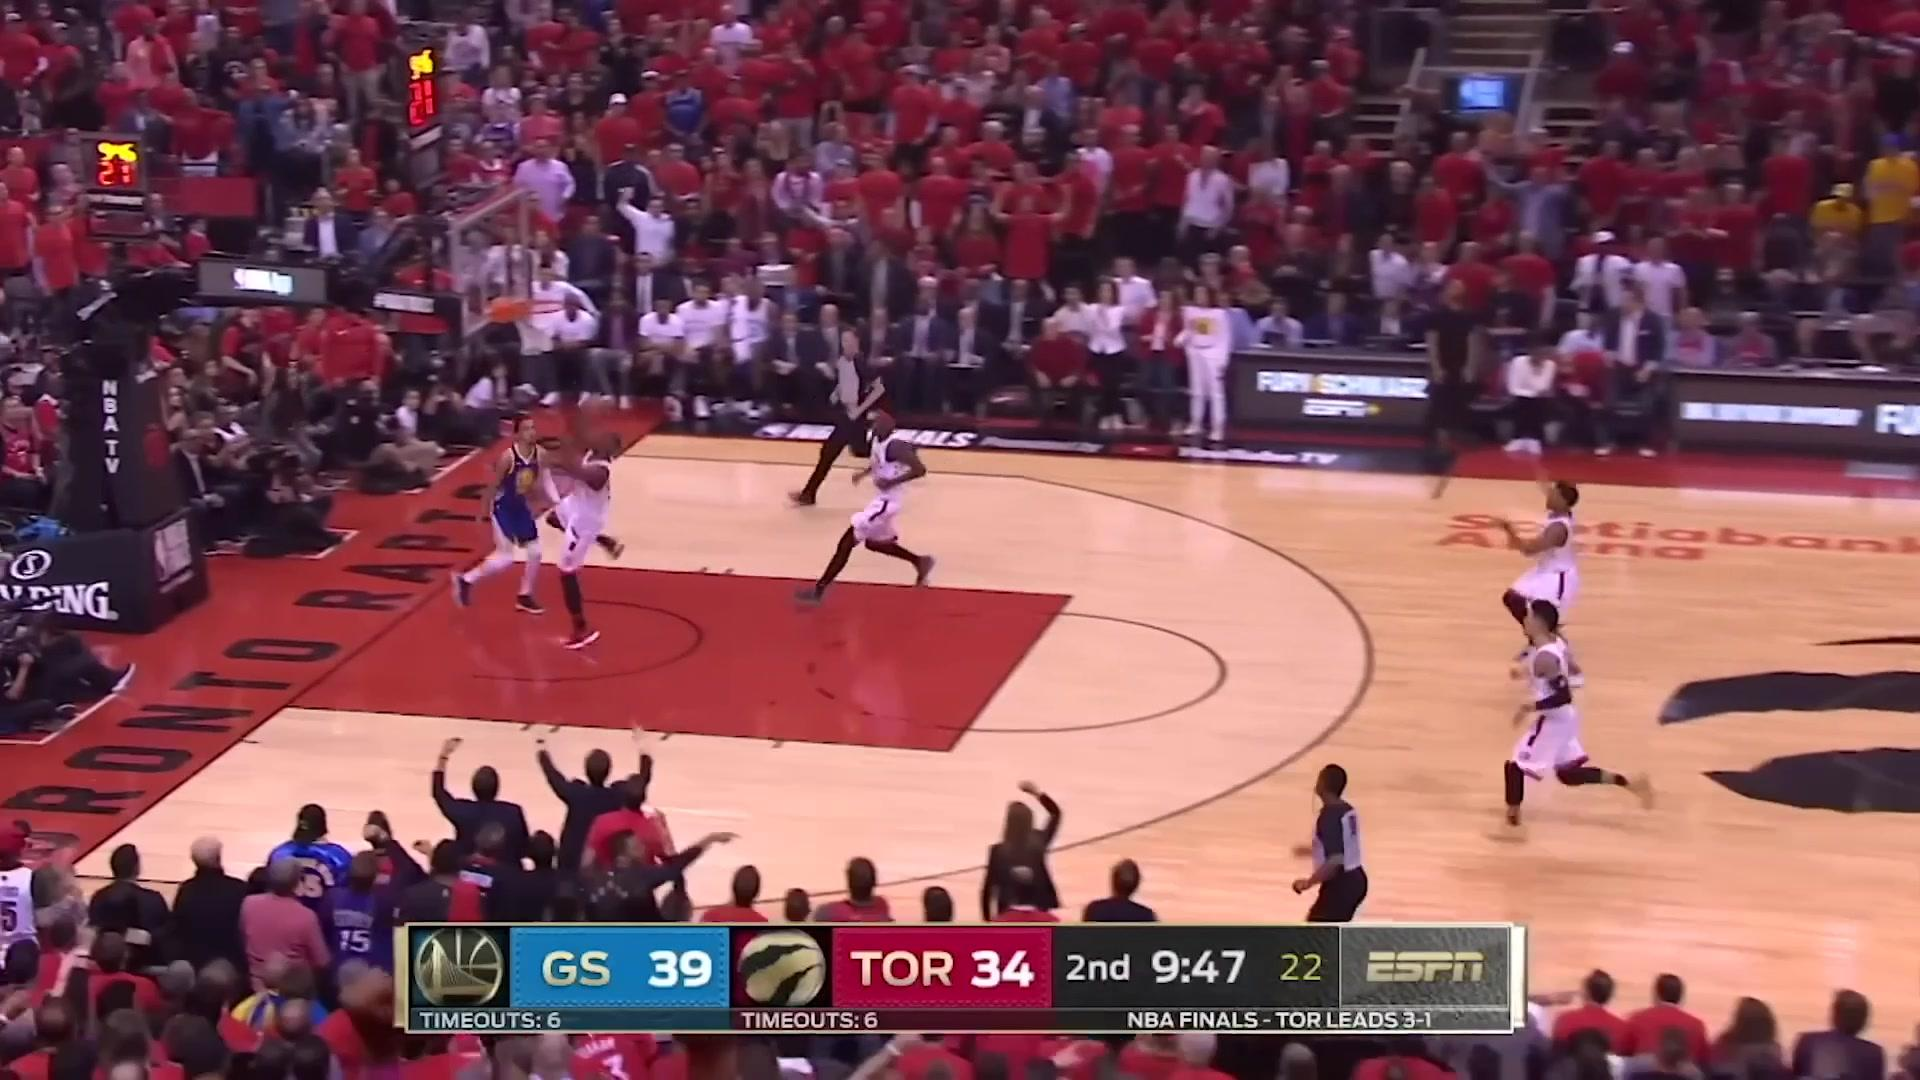foul: (460, 401, 654, 650)
